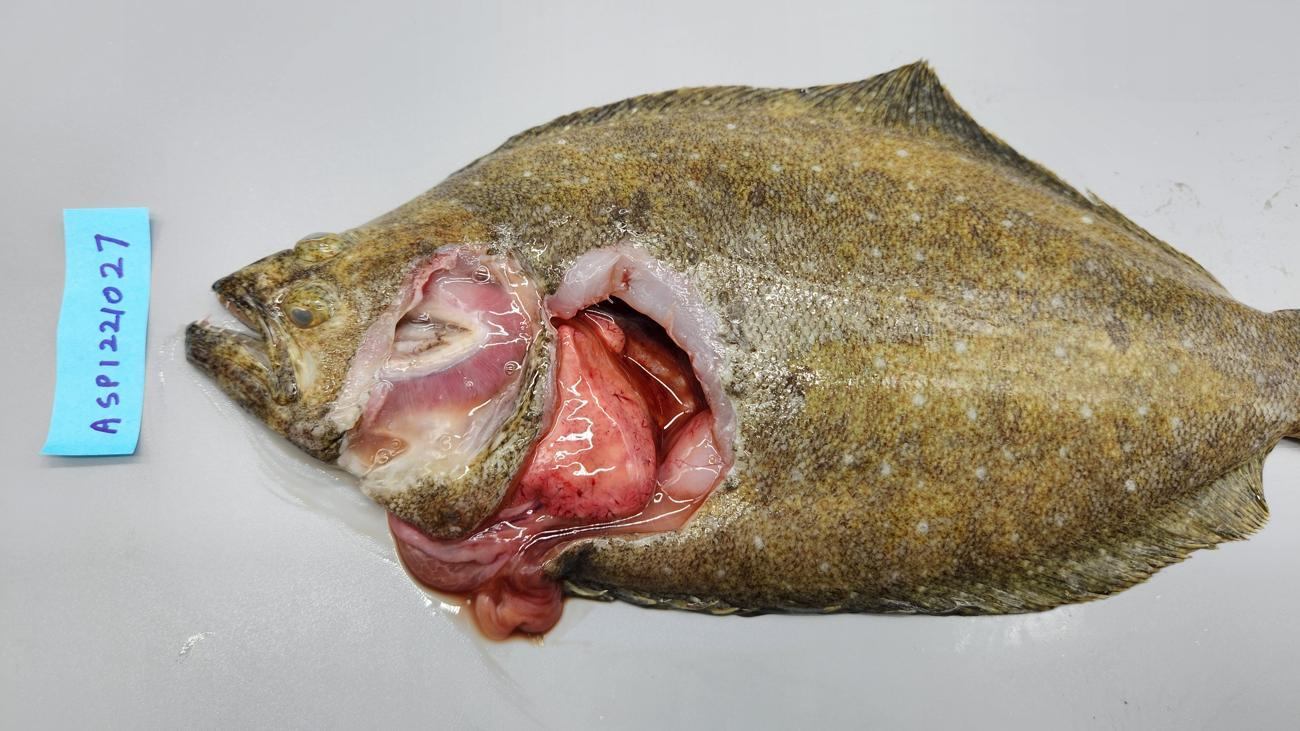SPLIC: (512, 321, 658, 521)
